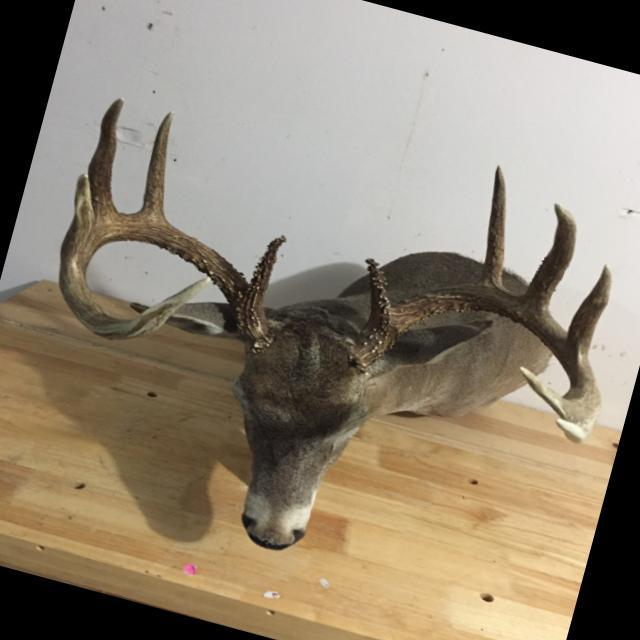L-G1: (362, 257, 392, 326)
L-G2: (480, 165, 506, 290)
L-G3: (520, 202, 576, 310)
L-G4: (566, 263, 611, 356)
R-F: (349, 288, 600, 425), (59, 215, 272, 351)
R-G1: (244, 235, 286, 307)
R-G2: (134, 111, 173, 221)
R-G3: (87, 99, 123, 214)
